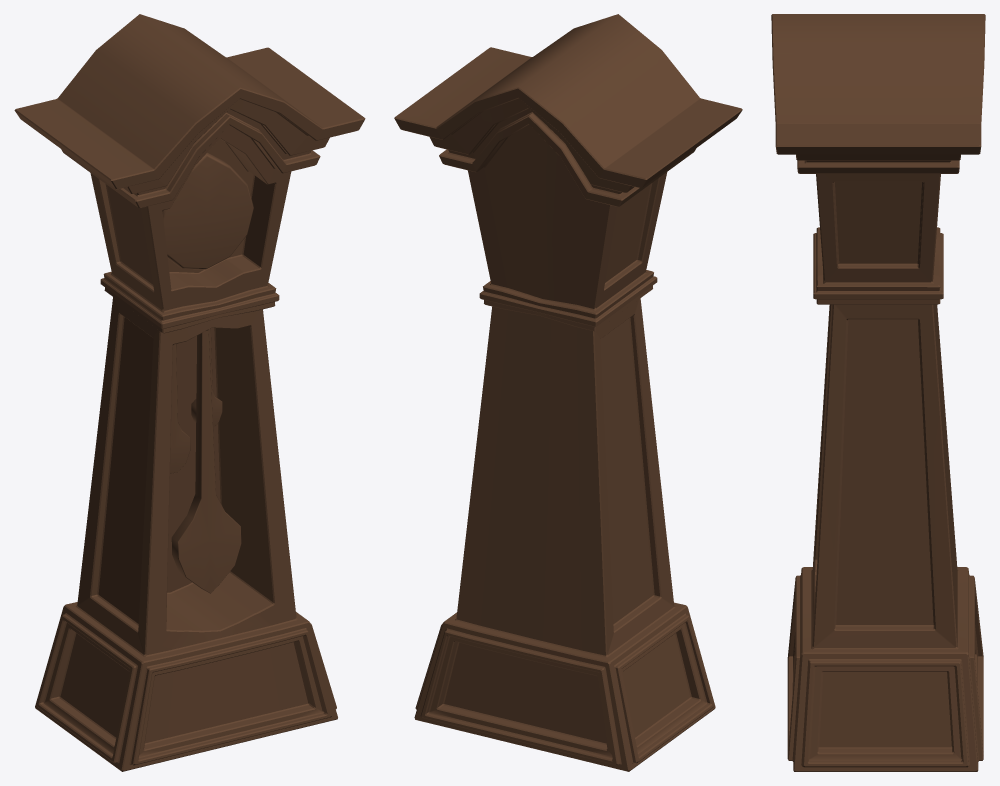
The model's file is SM_Clock.fbx.
3 renders of one model, left to right at view 1: azimuth 30°, elevation 25°; view 2: azimuth 150°, elevation 25°; view 3: azimuth 270°, elevation 25°, orthographic. The views are drawn at different scales.
Parts seen in each view (by area): view 1: Horloge_lowlow1; view 2: Horloge_lowlow1; view 3: Horloge_lowlow1.
Boxes of the visible parts, left/top/right/bottom form: Horloge_lowlow1: left=14, top=14, right=365, bottom=771; Horloge_lowlow1: left=394, top=14, right=742, bottom=771; Horloge_lowlow1: left=771, top=14, right=985, bottom=771.
Size of the model in its own units: 1.31 by 3.26 by 0.9013.
